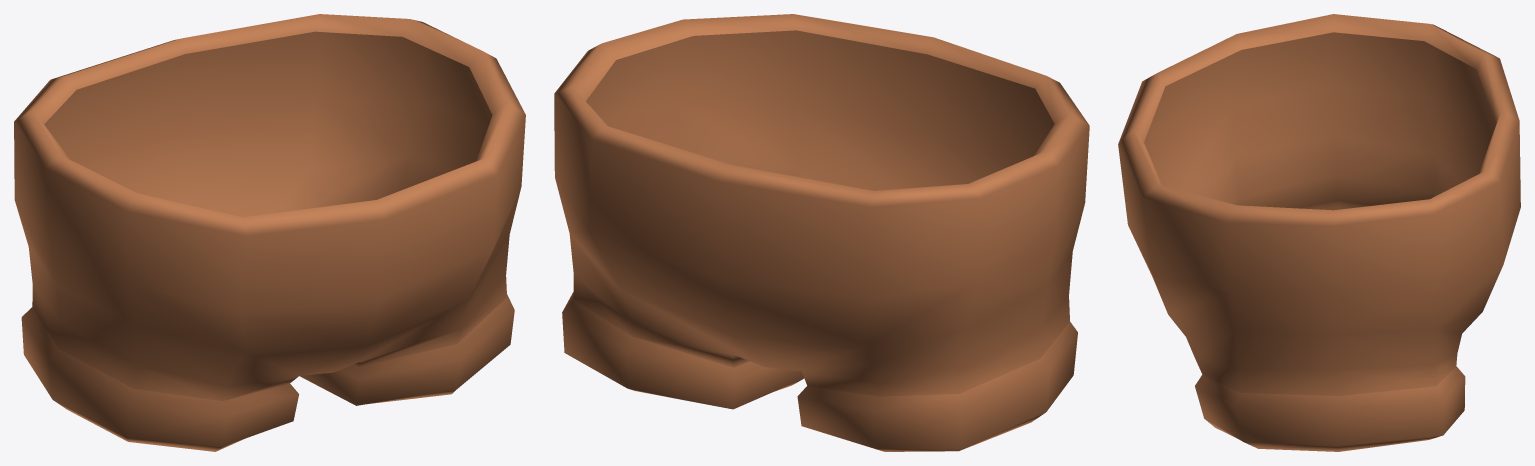
The model's file is Bottom_52.fbx.
3 views of the same model, side by side, from view 1: azimuth 30°, elevation 25°; view 2: azimuth 150°, elevation 25°; view 3: azimuth 270°, elevation 25° (orthographic). The views are drawn at different scales.
Parts seen in each view (by area): view 1: Bottom_52; view 2: Bottom_52; view 3: Bottom_52.
Boxes of the visible parts, box(x1,y1,x2,y2) form: Bottom_52: box(14, 14, 525, 451); Bottom_52: box(554, 14, 1089, 451); Bottom_52: box(1118, 14, 1520, 451).
Size of the model in its own units: 38.42 by 22.89 by 31.34.
